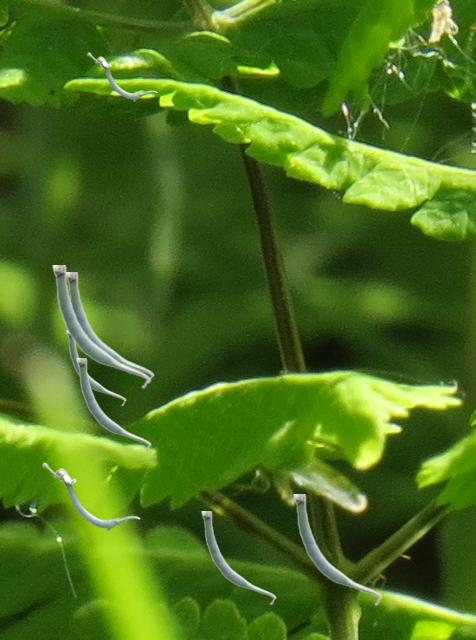french_bean: (52, 265, 149, 388), (293, 494, 381, 605), (68, 272, 153, 383), (201, 511, 275, 604), (76, 358, 150, 451), (42, 462, 139, 530), (66, 331, 125, 405), (87, 52, 156, 100)
